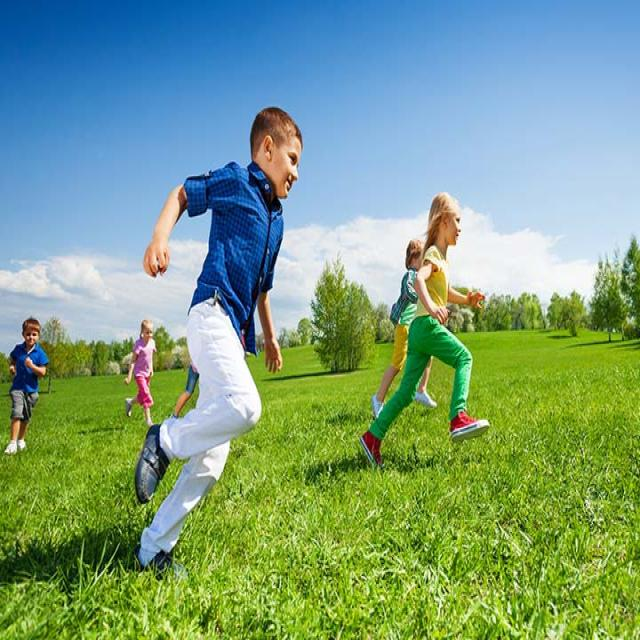Person: (133, 105, 303, 570), (359, 191, 490, 463), (372, 241, 437, 419), (5, 318, 48, 457), (125, 319, 156, 426)
